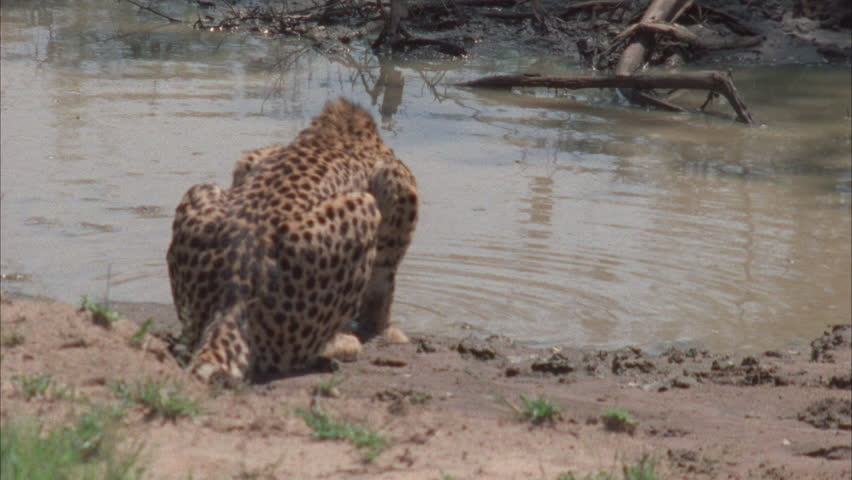Cheetah: (164, 96, 426, 392)
